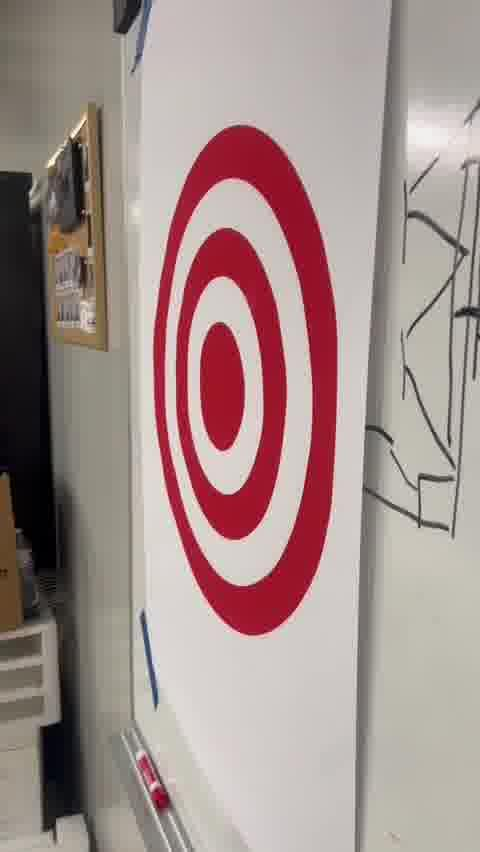target_red: (150, 125, 341, 638)
